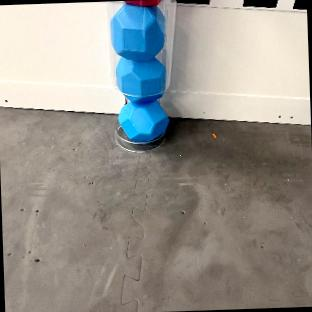Loader: (106, 0, 172, 143)
V5_BLUE: (110, 3, 165, 58), (116, 98, 168, 142), (116, 57, 166, 98)
